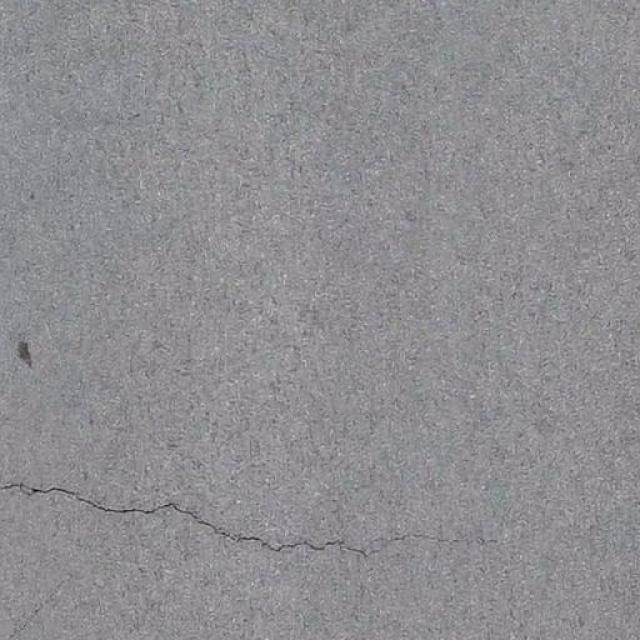Crack: (0, 456, 386, 568)
